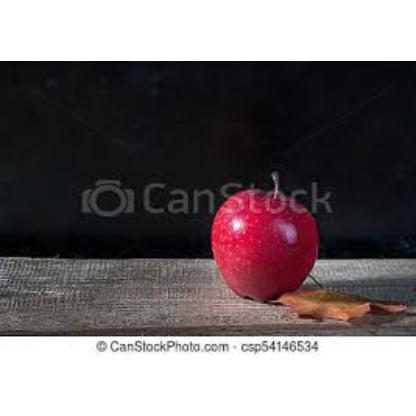apple: (216, 189, 320, 305)
